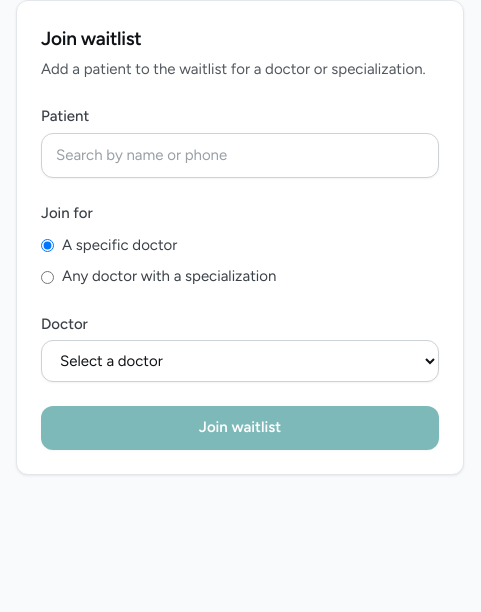
Scenario: StaffJoinWaitlistForm › shows the FORBIDDEN error message
Type "Asha" into the dropdown labelled "Patient" at coordinates (240, 155), box [41,133,439,178]
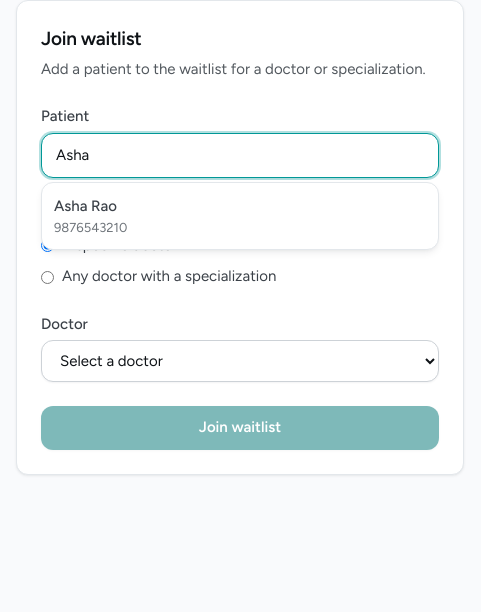
Expected: the option "Asha Rao 9876543210" is shown
Click the option "Asha Rao 9876543210" at coordinates (91, 216), box [54,197,127,235]
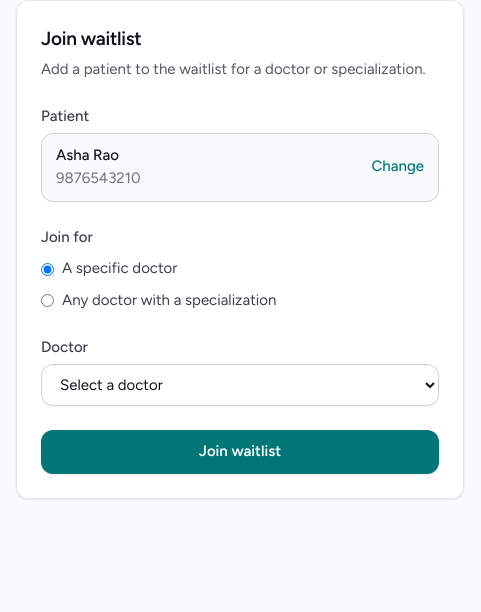
Select "Dr. Priya Nair — DR-1001" in the dropdown labelled "Doctor" at coordinates (240, 385), box [41,364,439,406]
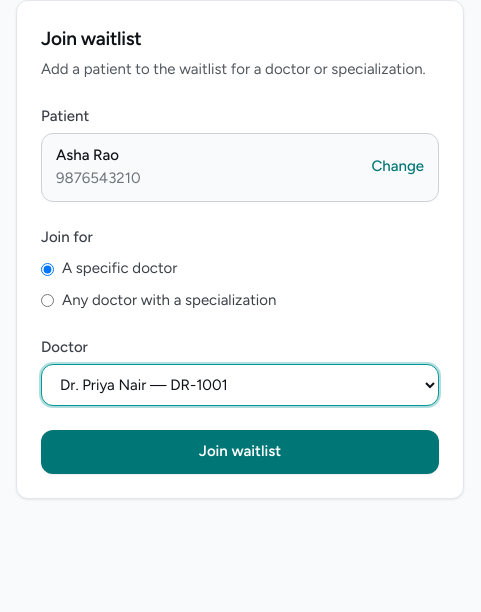
Click the button "Join waitlist" at coordinates (240, 452), box [41,430,439,474]
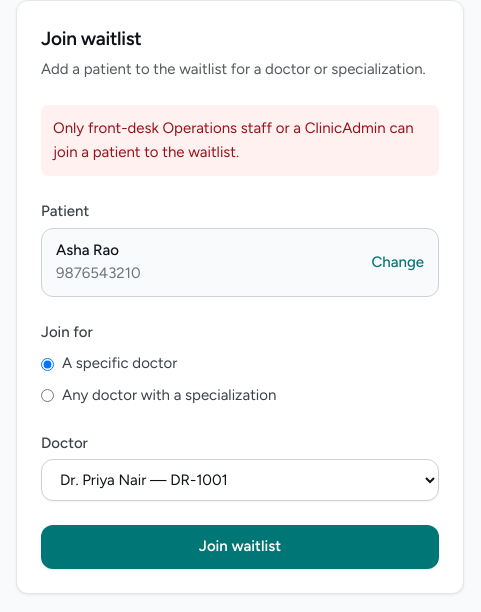
Expected: the message shows "Only front-desk Operations staff", [53,119,414,161]
